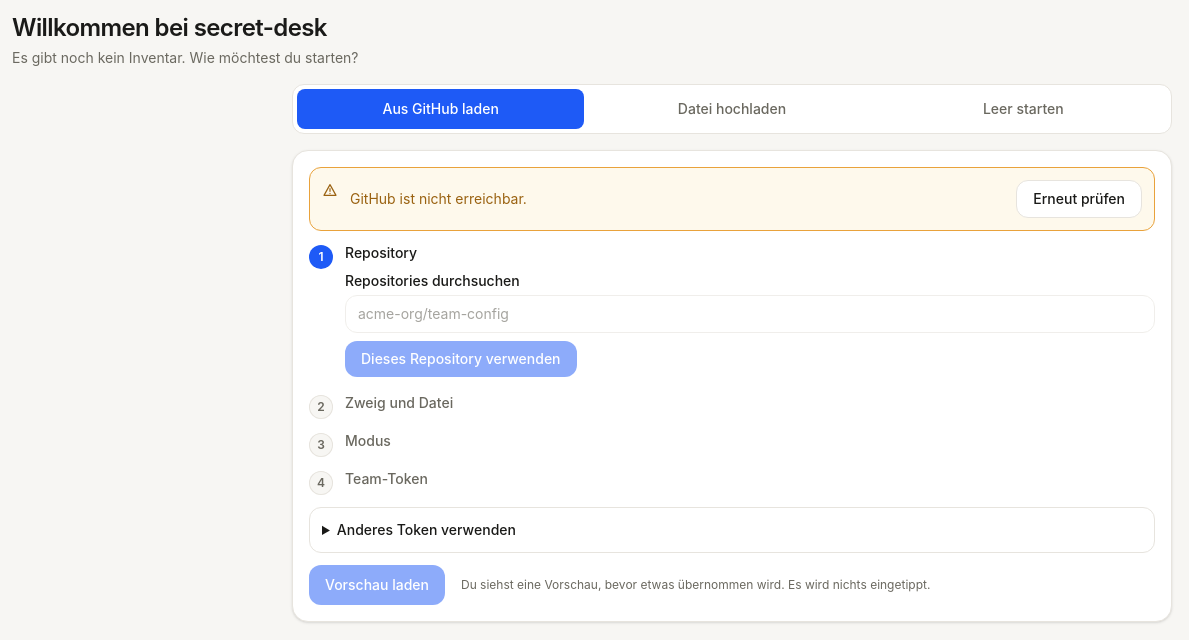
Scenario: Setup page: choice keyboard › keeps only the checked radio in the Tab order
Step 1. Click the radio button labelled "Datei hochladen" → (732, 109), box [588,89,876,129]
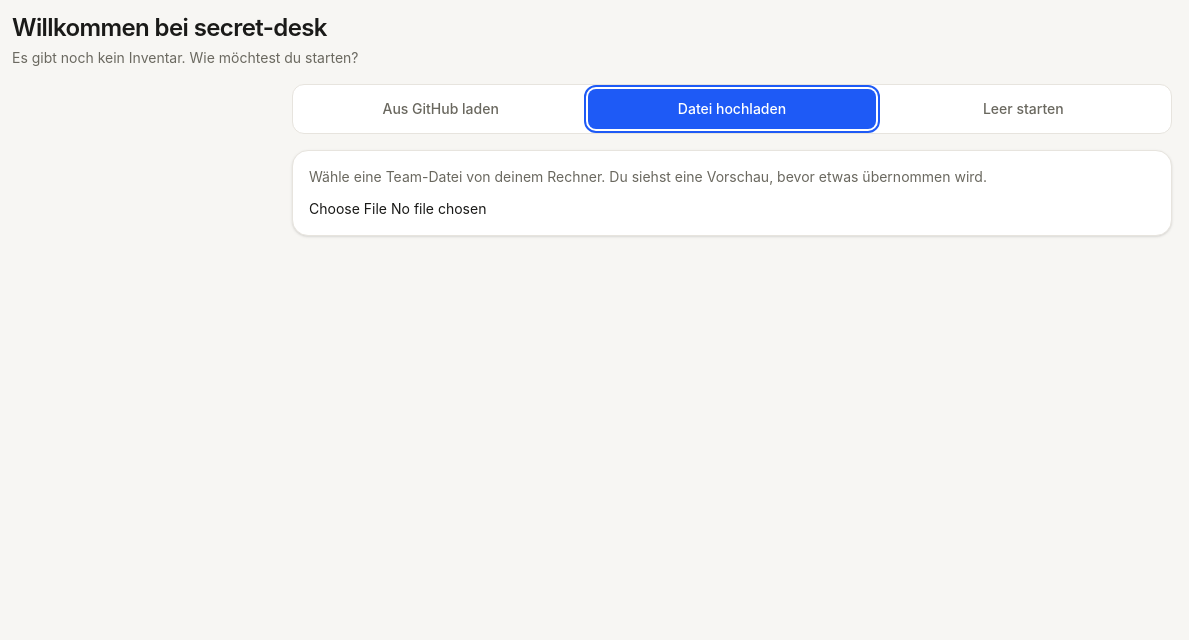
Now the radio button labelled "Aus GitHub laden" has attribute tabindex="-1", box [297,89,584,129]
Now the radio button labelled "Datei hochladen" has attribute tabindex="0", box [588,89,876,129]
